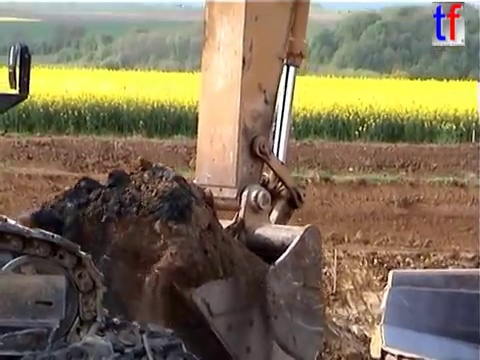excavator: (1, 1, 333, 360)
truck: (366, 264, 480, 360)
